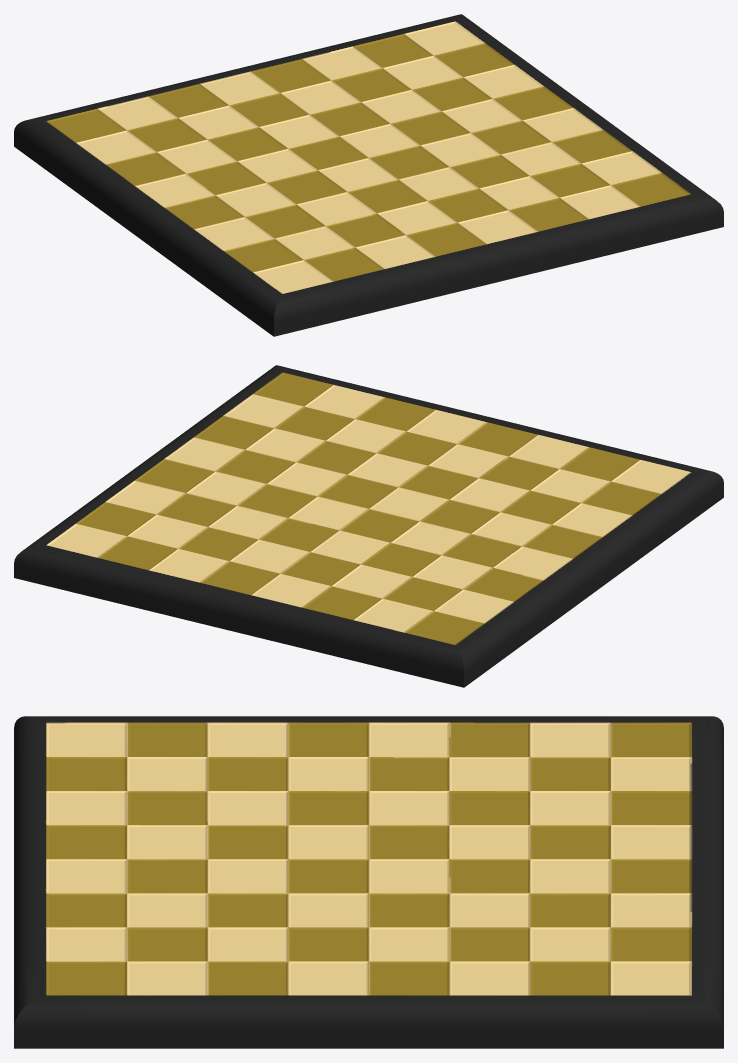
Rendered from Chessboard.fbx.
3 renders of one model, top to bottom at view 1: azimuth 30°, elevation 25°; view 2: azimuth 150°, elevation 25°; view 3: azimuth 270°, elevation 25°, orthographic. The views are drawn at different scales.
Visible parts, largest first — view 1: Chessboard; view 2: Chessboard; view 3: Chessboard.
Boxes of the visible parts, <box> form: Chessboard: <box>14,14,723,336</box>; Chessboard: <box>14,365,723,687</box>; Chessboard: <box>14,716,723,1048</box>.
Size of the model in its own units: 687 by 42.37 by 687.
